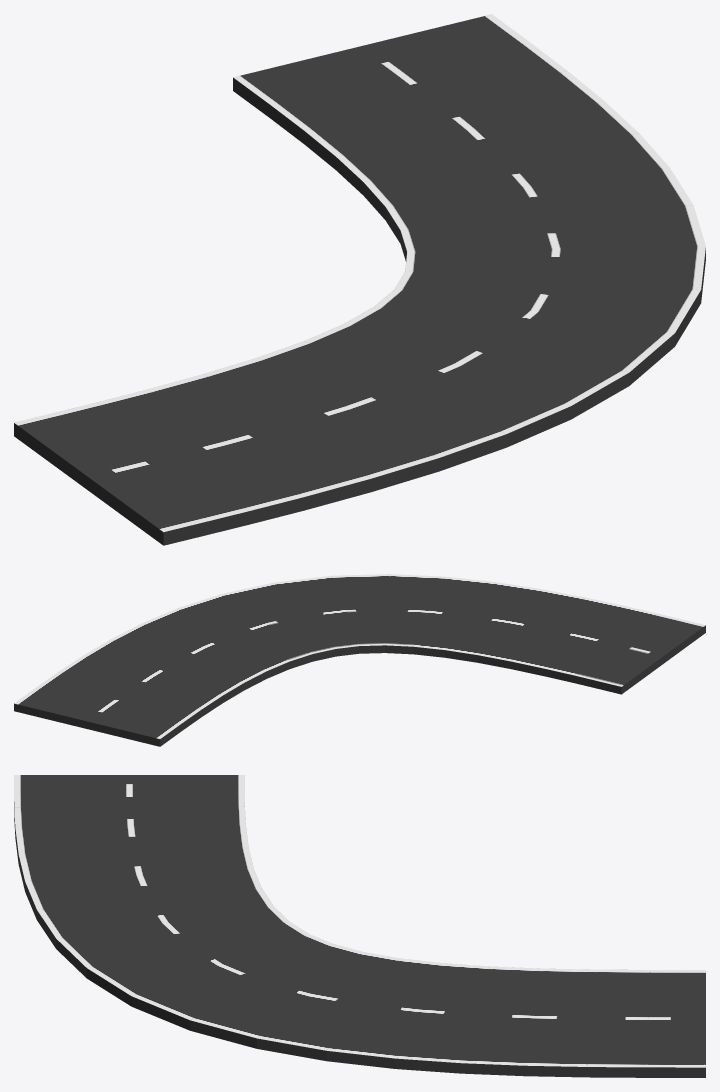
File: CurvyRoad.fbx
3 renders of one model, top to bottom at view 1: azimuth 30°, elevation 25°; view 2: azimuth 150°, elevation 25°; view 3: azimuth 270°, elevation 25°, orthographic. The views are drawn at different scales.
Visible parts, largest first — view 1: CurvyRoad; view 2: CurvyRoad; view 3: CurvyRoad.
Part boxes in pixels (x1=…): CurvyRoad: x1=14, y1=14, x2=705, y2=545; CurvyRoad: x1=14, y1=574, x2=705, y2=746; CurvyRoad: x1=14, y1=775, x2=705, y2=1077.
Bounding box in the file's own units: 1200 × 20.15 × 1200.
